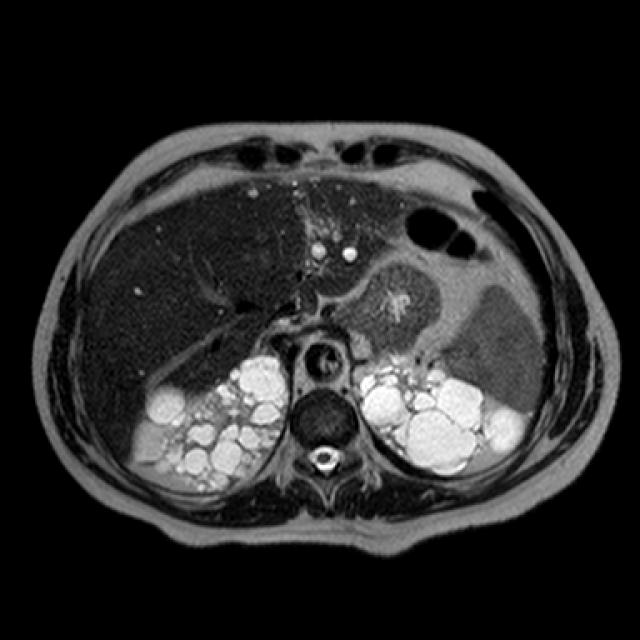sag: (133, 357, 287, 495)
sol: (357, 358, 520, 480)
